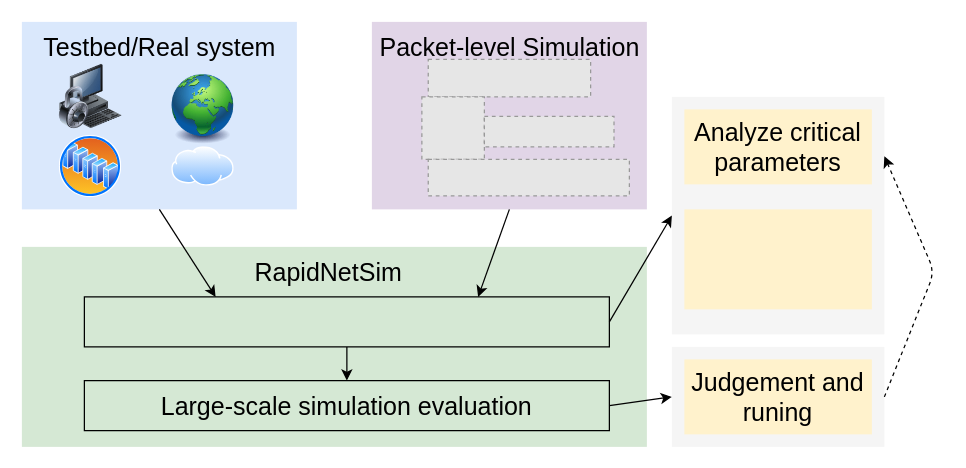
Some shapes in this 966 by 468 pixel diagram are drawn without their labels. Grey dashed boxes stand in for pictures. Here are the shapes that lost their labels. From the top down, the centre of each, then its label:
(x=777, y=259): Controlling the variables and fitting
(x=346, y=321): Small-scale parameter adjusting
